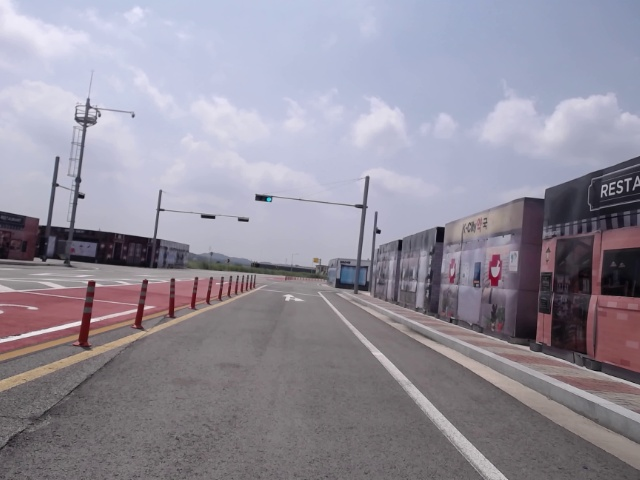green_3: (254, 194, 273, 203)
